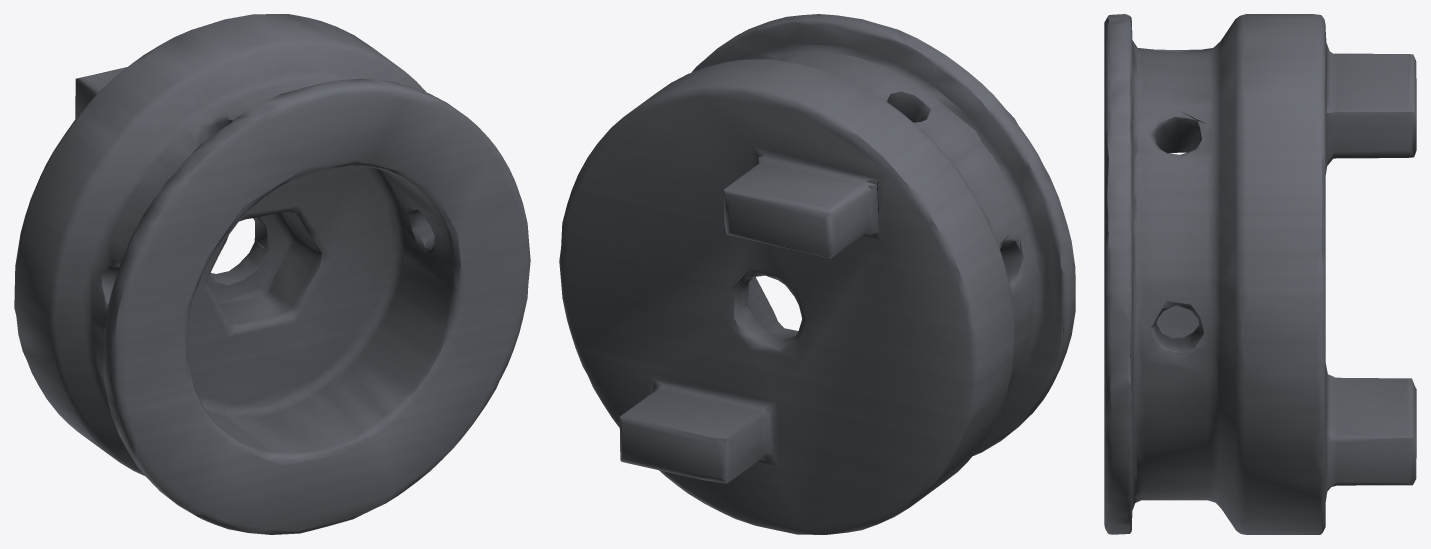
Rendered from Left_elbow_outword.glb.
3 renders of one model, left to right at view 1: azimuth 30°, elevation 25°; view 2: azimuth 150°, elevation 25°; view 3: azimuth 270°, elevation 25°, orthographic. The views are drawn at different scales.
Visible parts, largest first — view 1: Left_elbow_outword; view 2: Left_elbow_outword; view 3: Left_elbow_outword.
Part boxes in pixels (x1,y1,x2,y2): Left_elbow_outword: [14, 14, 530, 534]; Left_elbow_outword: [559, 14, 1075, 534]; Left_elbow_outword: [1104, 14, 1416, 534].
Size of the model in its own units: 0.0383 by 0.0383 by 0.0229.
Materials: 1 (1 with a texture image).
